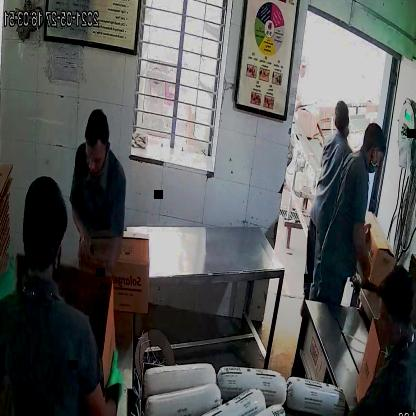no_goggles: (82, 143, 110, 171)
